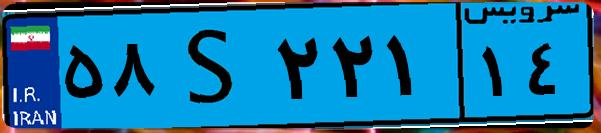1: (385, 28, 445, 110), (475, 38, 525, 113)
2: (270, 28, 330, 110), (330, 28, 385, 110)
4: (525, 38, 570, 115)
5: (57, 26, 110, 100)
8: (110, 28, 158, 98)
S: (158, 12, 270, 120)
